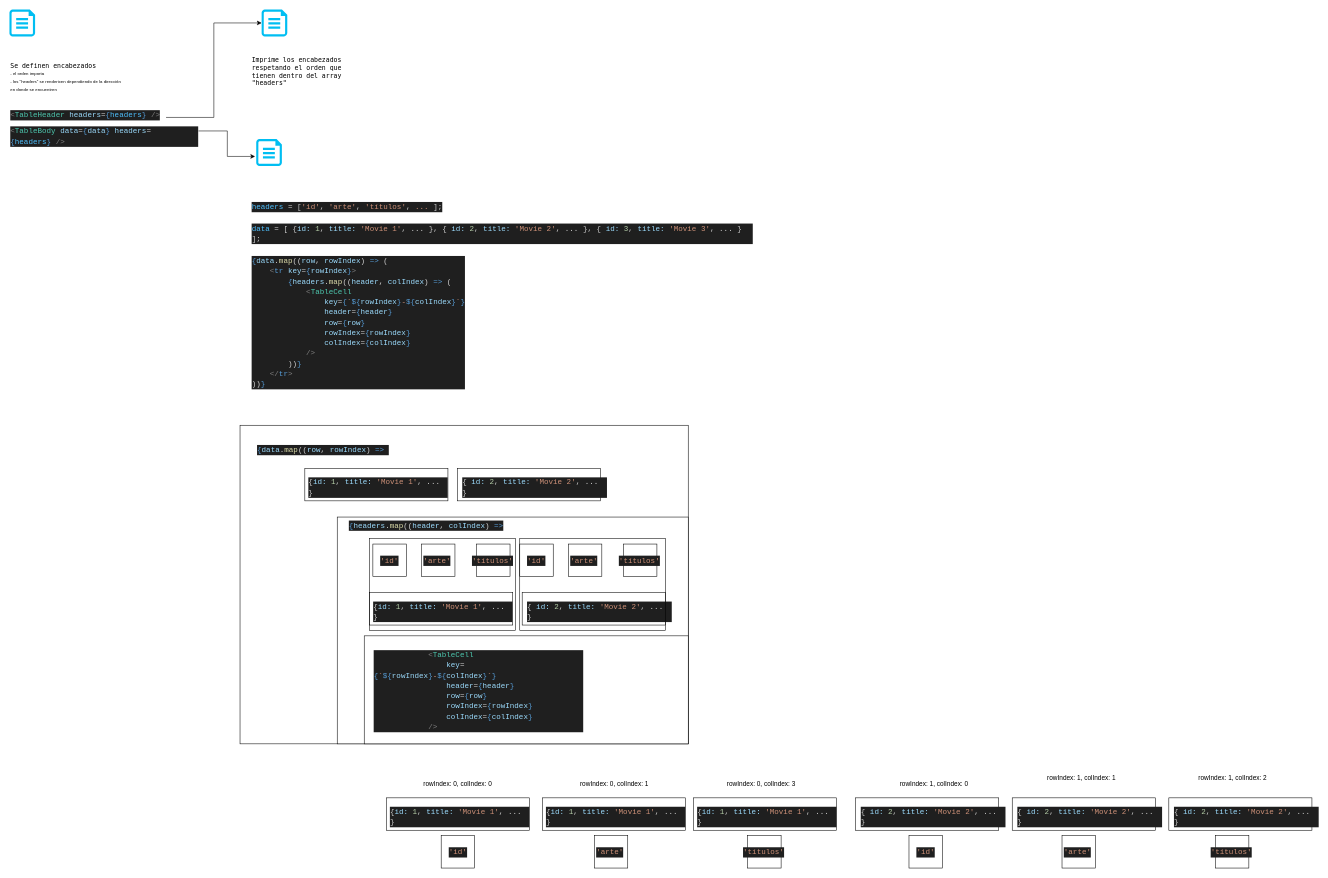
Some shapes in this 1328 by 878 pixel diagram are drawn without their labels. The shapes that lost their labels are listed below. From the top down, each one's centre as x and y in pixels, then its label:
pixel 22 22: Table.tsx
pixel 274 22: TableHeaders.tsx
pixel 269 152: TableBody.tsx
